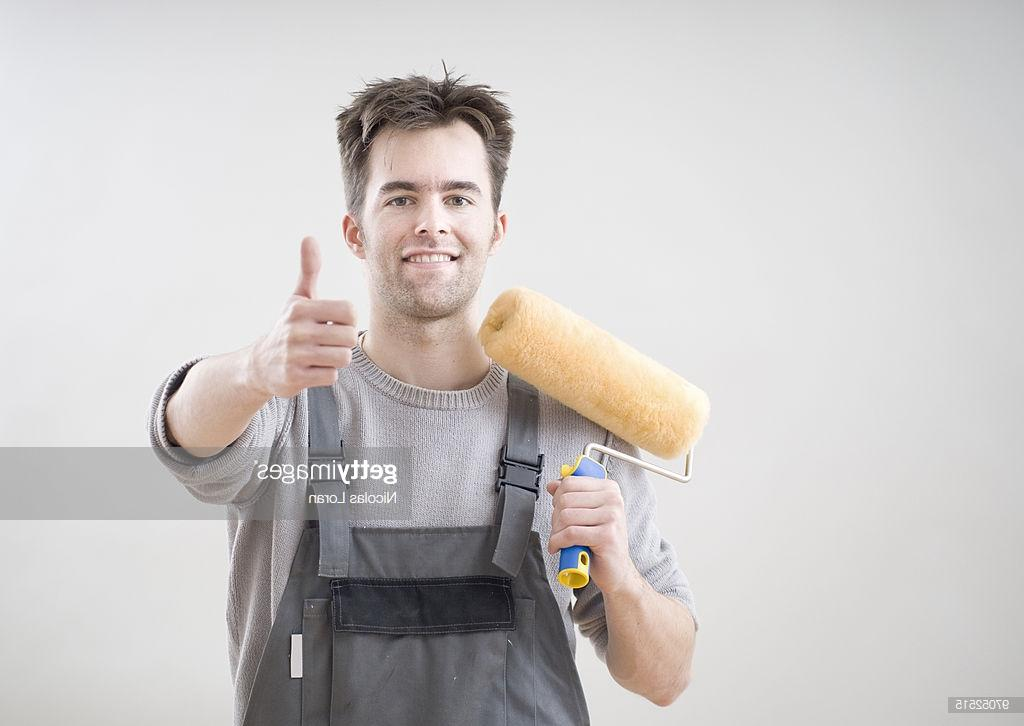thumbsup: (285, 235, 359, 388)
